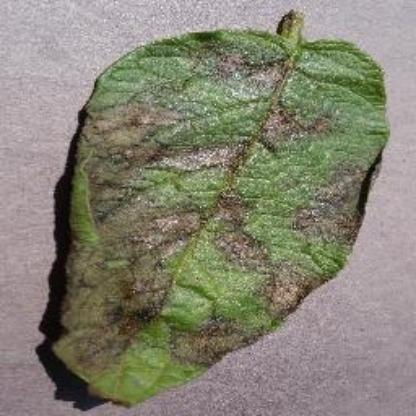Late-Blight: (27, 6, 393, 412)
